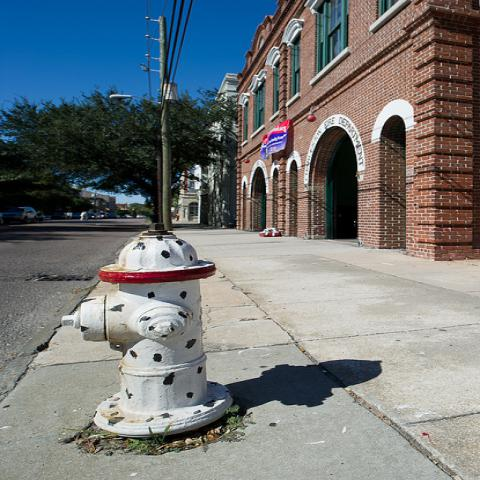car: (0, 206, 39, 224), (52, 213, 70, 219), (94, 213, 105, 219), (121, 214, 133, 218), (87, 213, 94, 219), (136, 214, 146, 218)
